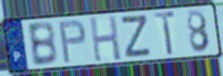8: (185, 9, 211, 55)
B: (25, 20, 59, 68)
H: (88, 14, 123, 63)
P: (57, 19, 88, 65)
T: (153, 10, 177, 58)
Z: (121, 13, 153, 60)
